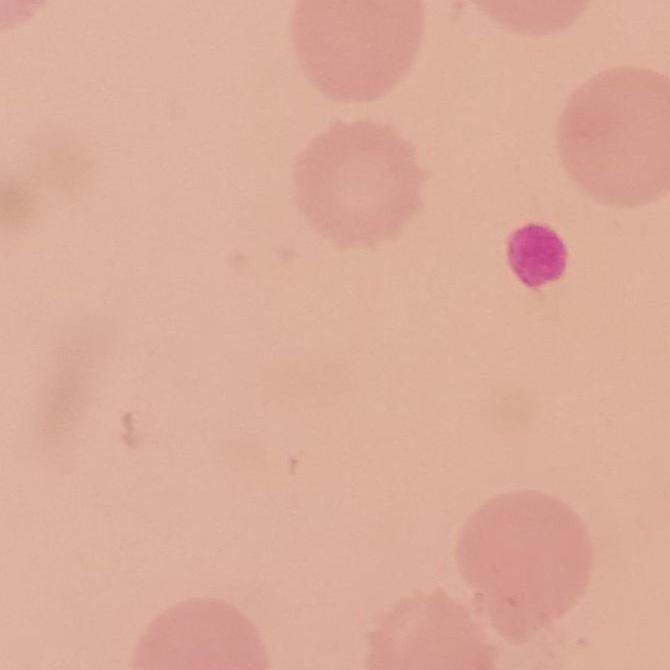Uninfected: (455, 489, 589, 635), (296, 122, 426, 249), (554, 68, 670, 210), (291, 0, 424, 99)
